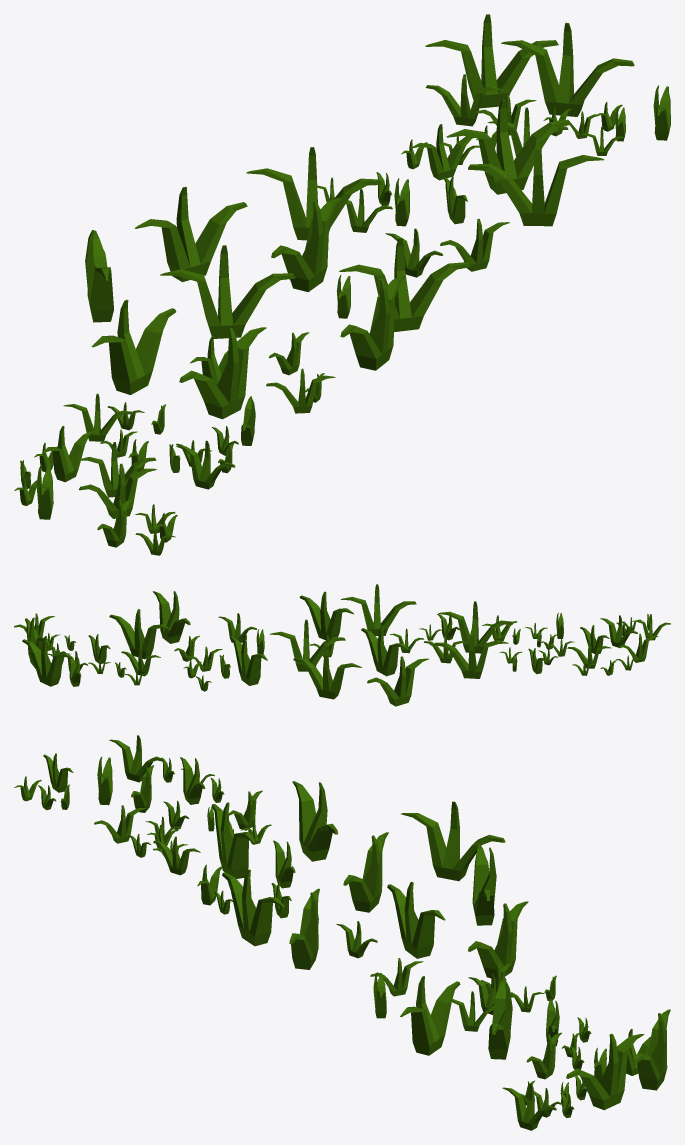
Rendered from hierba_Edge_C_A.fbx.
The picture shows the model from 3 angles, top to bottom: view 1: azimuth 30°, elevation 25°; view 2: azimuth 150°, elevation 25°; view 3: azimuth 270°, elevation 25°; orthographic projection. The views are drawn at different scales.
Visible parts, largest first — view 1: Edge_C_A; view 2: Edge_C_A; view 3: Edge_C_A.
Boxes of the visible parts, bbox=[...] form: Edge_C_A: bbox=[14, 14, 670, 555]; Edge_C_A: bbox=[14, 584, 670, 706]; Edge_C_A: bbox=[14, 735, 670, 1130].
Bounding box in the file's own units: 145 × 14.09 × 110.
